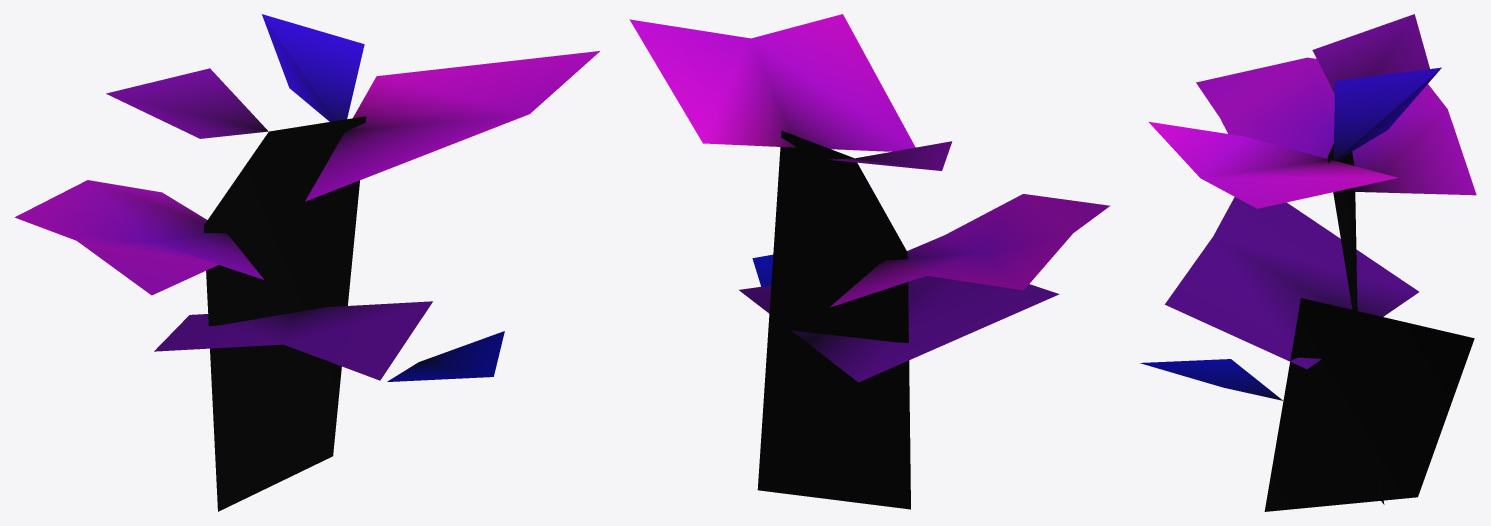
File: Sappling.fbx
3 renders of one model, left to right at view 1: azimuth 30°, elevation 25°; view 2: azimuth 150°, elevation 25°; view 3: azimuth 270°, elevation 25°, orthographic. The views are drawn at different scales.
Visible parts, largest first — view 1: Sappling; view 2: Sappling; view 3: Sappling.
Boxes of the visible parts, x1,y1,x2,y2 form: Sappling: (14,14,599,511); Sappling: (629,14,1110,509); Sappling: (1140,14,1476,511).
Size of the model in its own units: 66.97 by 55.31 by 40.09.
